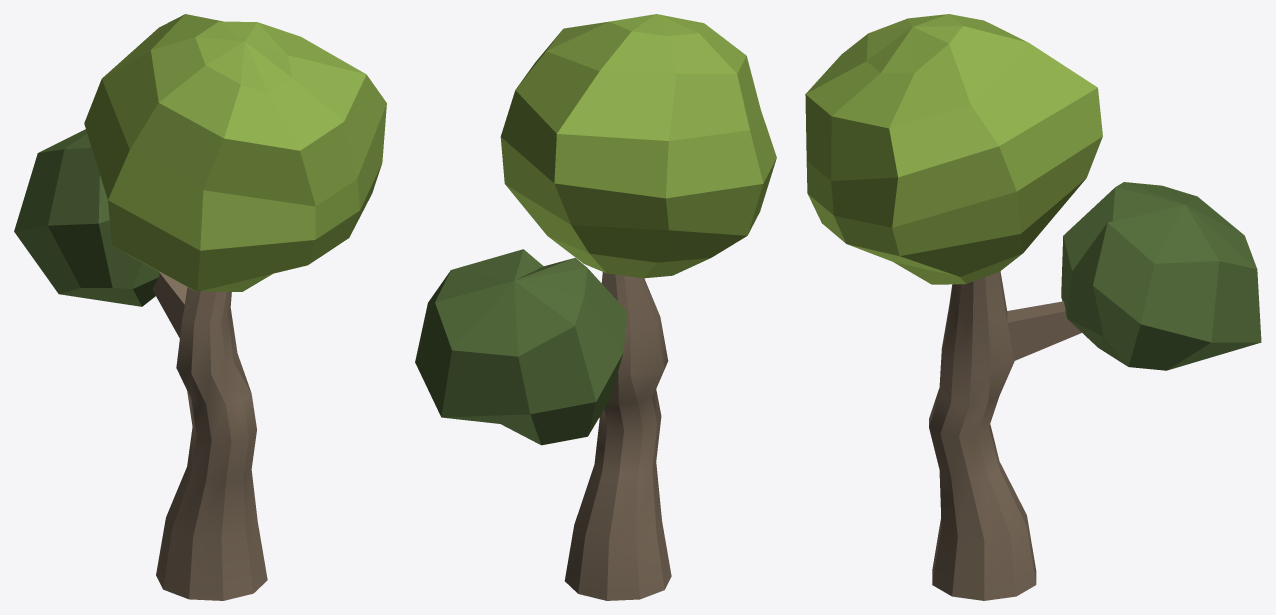
The model's file is tree01.fbx.
3 views of the same model, side by side, from view 1: azimuth 30°, elevation 25°; view 2: azimuth 150°, elevation 25°; view 3: azimuth 270°, elevation 25° (orthographic). The views are drawn at different scales.
Visible parts, largest first — view 1: pSphere2, pCylinder1, group1; view 2: pSphere2, group1, pCylinder1; view 3: pSphere2, group1, pCylinder1.
Part boxes in pixels (bbox=[...]): pSphere2: bbox=[84, 14, 386, 291]; pCylinder1: bbox=[152, 272, 267, 600]; group1: bbox=[14, 129, 159, 306]; pSphere2: bbox=[500, 14, 776, 278]; group1: bbox=[415, 249, 627, 445]; pCylinder1: bbox=[564, 272, 671, 600]; pSphere2: bbox=[805, 14, 1102, 284]; group1: bbox=[1061, 182, 1261, 370]; pCylinder1: bbox=[929, 271, 1082, 600].
Size of the model in its own units: 19.76 by 41.24 by 30.98.
